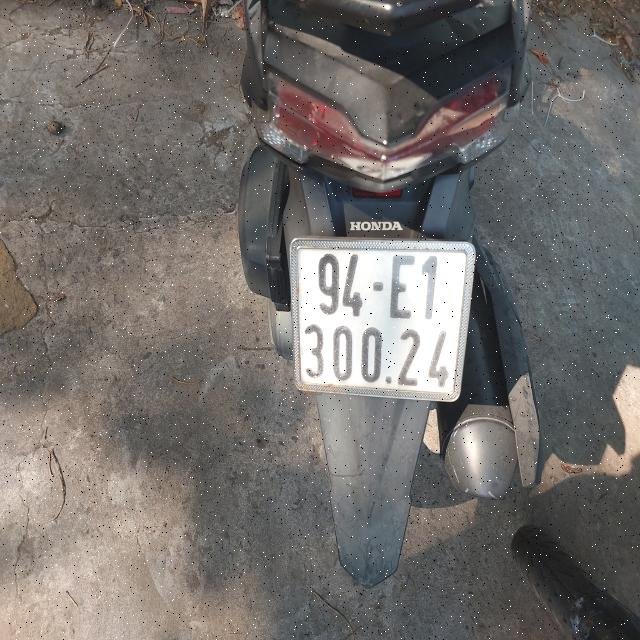0: (360, 324, 382, 384), (331, 328, 354, 378)
1: (422, 252, 439, 321)
2: (400, 327, 422, 388)
3: (302, 320, 327, 383)
4: (342, 256, 367, 318), (426, 328, 451, 388)
9: (316, 252, 342, 317)
E: (388, 248, 413, 319)
